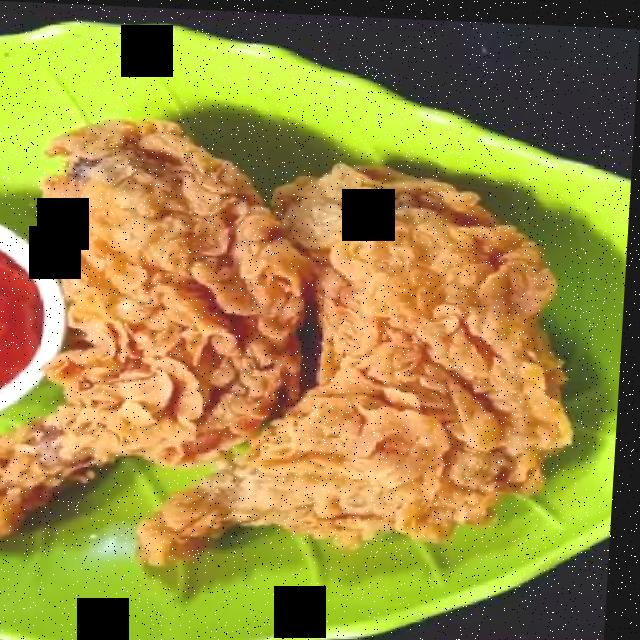Frango: (194, 73, 560, 602), (6, 104, 277, 535)
